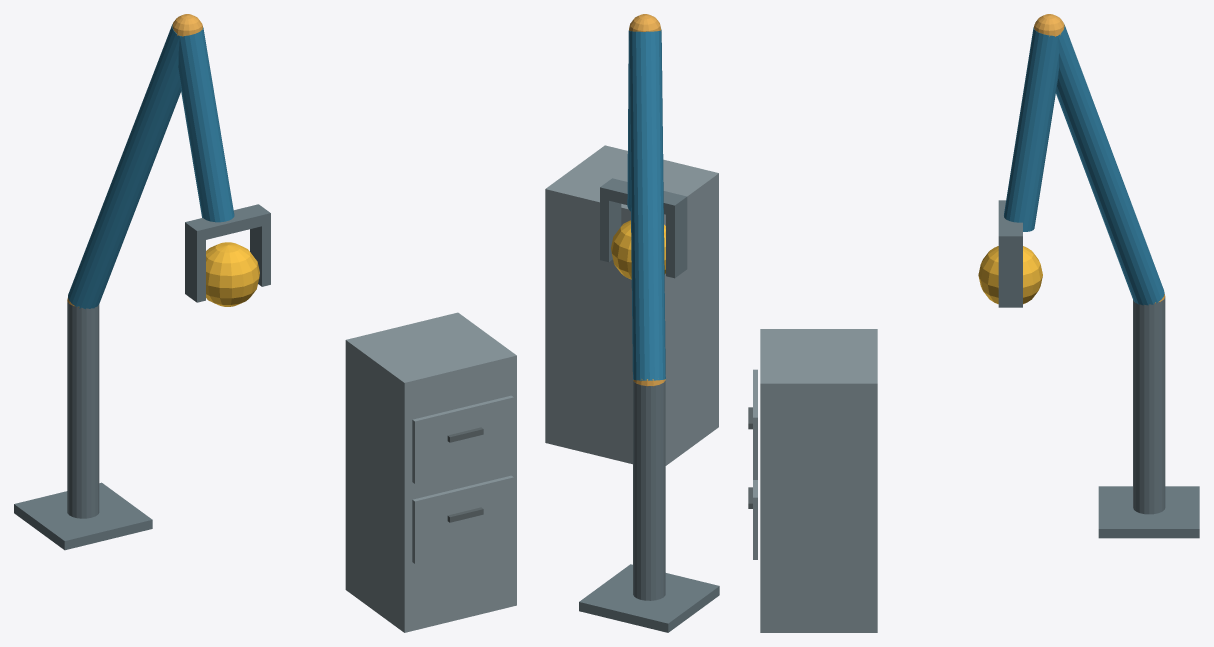
3 renders of one model, left to right at view 1: azimuth 30°, elevation 25°; view 2: azimuth 150°, elevation 25°; view 3: azimuth 270°, elevation 25°, orthographic.
Visible parts, largest first — view 1: cabinet_1 body, moving link 1, fixed post, cabinet_1 drawer front, cabinet_1 drawer front.001, moving link 2, pedestal, ball ball_1, gripper bridge, gripper finger -1, gripper finger 1; view 2: cabinet_1 body, moving link 1, fixed post, pedestal, gripper finger -1, gripper bridge, gripper finger 1, ball ball_1, joint 2, moving link 2; view 3: cabinet_1 body, moving link 1, fixed post, moving link 2, pedestal, ball ball_1, gripper finger 1, gripper bridge.
Part boxes in pixels (box(x1,y1,x2,y2)): cabinet_1 body: box(345, 312, 516, 632); moving link 1: box(68, 24, 180, 309); fixed post: box(67, 302, 99, 518); cabinet_1 drawer front: box(412, 475, 513, 563); cabinet_1 drawer front.001: box(412, 395, 513, 483); moving link 2: box(178, 27, 234, 222); pedestal: box(14, 482, 152, 550); ball ball_1: box(206, 242, 259, 306); gripper bridge: box(185, 204, 270, 241); gripper finger -1: box(185, 233, 205, 302); gripper finger 1: box(250, 224, 270, 286); cabinet_1 body: box(545, 145, 718, 465); moving link 1: box(628, 30, 665, 380); fixed post: box(633, 380, 665, 600); pedestal: box(579, 564, 719, 632); gripper finger -1: box(666, 208, 687, 278); gripper bridge: box(600, 178, 687, 216); gripper finger 1: box(600, 198, 621, 262); ball ball_1: box(611, 220, 665, 279); joint 2: box(629, 14, 661, 31); moving link 2: box(627, 38, 630, 211); cabinet_1 body: box(760, 329, 877, 632); moving link 1: box(1056, 24, 1164, 305); fixed post: box(1133, 297, 1165, 514); moving link 2: box(1004, 27, 1058, 231); pedestal: box(1098, 486, 1199, 538); ball ball_1: box(978, 246, 1042, 304); gripper finger 1: box(998, 247, 1022, 307); gripper bridge: box(998, 200, 1022, 247).
Bounding box in the file's own units: 0.8043 × 1.44 × 1.12.
